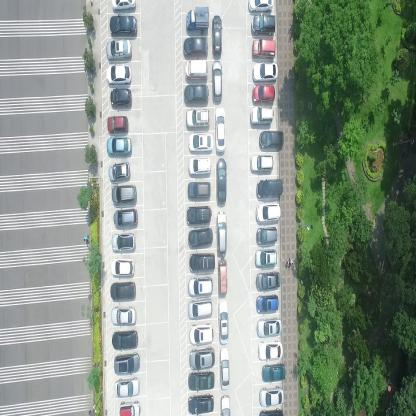car: (188, 345, 214, 370), (187, 392, 214, 416), (112, 206, 138, 230), (110, 14, 137, 37), (110, 327, 137, 350), (188, 321, 213, 345), (188, 250, 214, 273), (186, 274, 212, 297), (114, 375, 140, 398), (186, 226, 213, 248), (109, 280, 136, 302), (186, 7, 209, 32), (185, 107, 210, 130), (256, 176, 282, 198), (111, 183, 137, 205), (182, 37, 209, 58), (257, 338, 282, 360), (259, 384, 284, 406), (255, 201, 281, 222), (255, 314, 281, 335), (106, 39, 132, 60), (113, 350, 139, 371), (105, 64, 132, 84), (106, 137, 133, 157), (187, 370, 214, 390), (107, 160, 130, 183), (184, 60, 208, 82), (188, 131, 212, 153), (187, 156, 211, 178), (216, 156, 227, 204), (252, 61, 277, 82), (259, 128, 284, 149), (187, 298, 213, 318), (111, 305, 137, 325), (215, 106, 226, 153), (216, 208, 227, 255), (219, 347, 231, 390), (218, 299, 229, 345), (252, 83, 276, 104), (186, 204, 210, 225), (111, 257, 135, 278), (249, 152, 274, 172), (212, 12, 223, 57), (252, 38, 276, 58), (184, 84, 208, 104), (260, 362, 284, 382), (112, 232, 136, 252), (251, 15, 276, 34), (249, 106, 274, 125), (254, 291, 277, 311), (187, 180, 210, 200), (255, 270, 279, 289), (212, 61, 223, 102), (255, 224, 277, 244), (254, 247, 276, 267), (110, 88, 132, 108), (106, 115, 129, 133), (247, 0, 274, 13), (217, 258, 226, 296), (118, 400, 140, 415), (110, 0, 136, 11), (220, 394, 232, 416)
